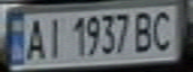1: (66, 14, 87, 57)
3: (100, 11, 118, 55)
7: (112, 10, 133, 55)
9: (81, 12, 103, 56)
A: (21, 16, 48, 62)
B: (130, 8, 160, 54)
C: (148, 7, 181, 53)
I: (42, 15, 66, 61)
